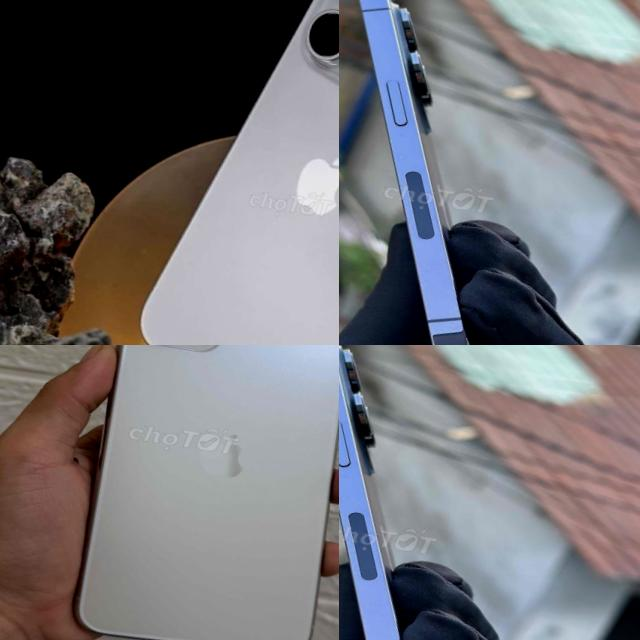gen_11: (58, 345, 339, 640)
gen_14: (339, 0, 557, 345), (339, 345, 500, 640)
gen_15: (113, 0, 339, 345)
